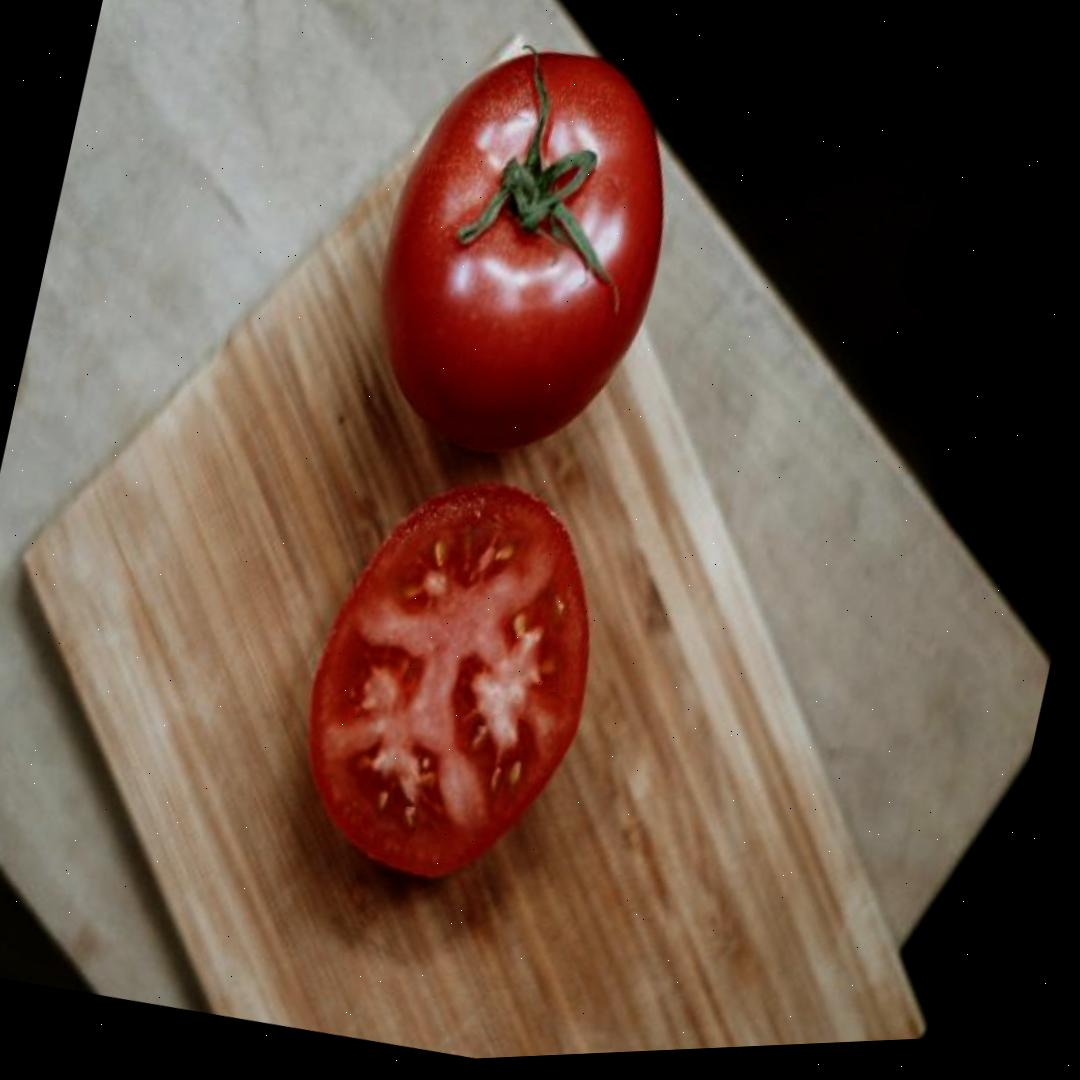matang: (345, 17, 700, 488), (275, 450, 626, 909)
